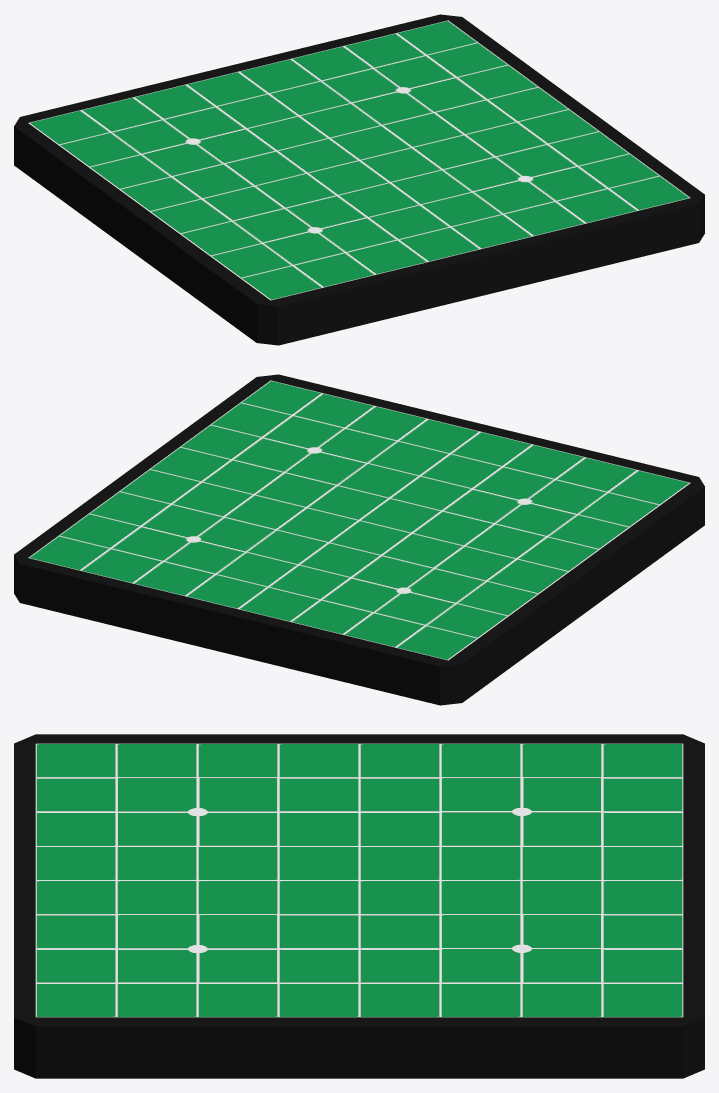
Rendered from othello_board.fbx.
3 views of the same model, one above another, from view 1: azimuth 30°, elevation 25°; view 2: azimuth 150°, elevation 25°; view 3: azimuth 270°, elevation 25° (orthographic). The views are drawn at different scales.
Visible parts, largest first — view 1: othello_board; view 2: othello_board; view 3: othello_board.
Part boxes in pixels (<box>): othello_board: <box>14,14,704,345</box>; othello_board: <box>14,374,704,705</box>; othello_board: <box>14,734,704,1078</box>.
Bounding box in the file's own units: 1922 × 160 × 1922.
1 material, 1 textured.
